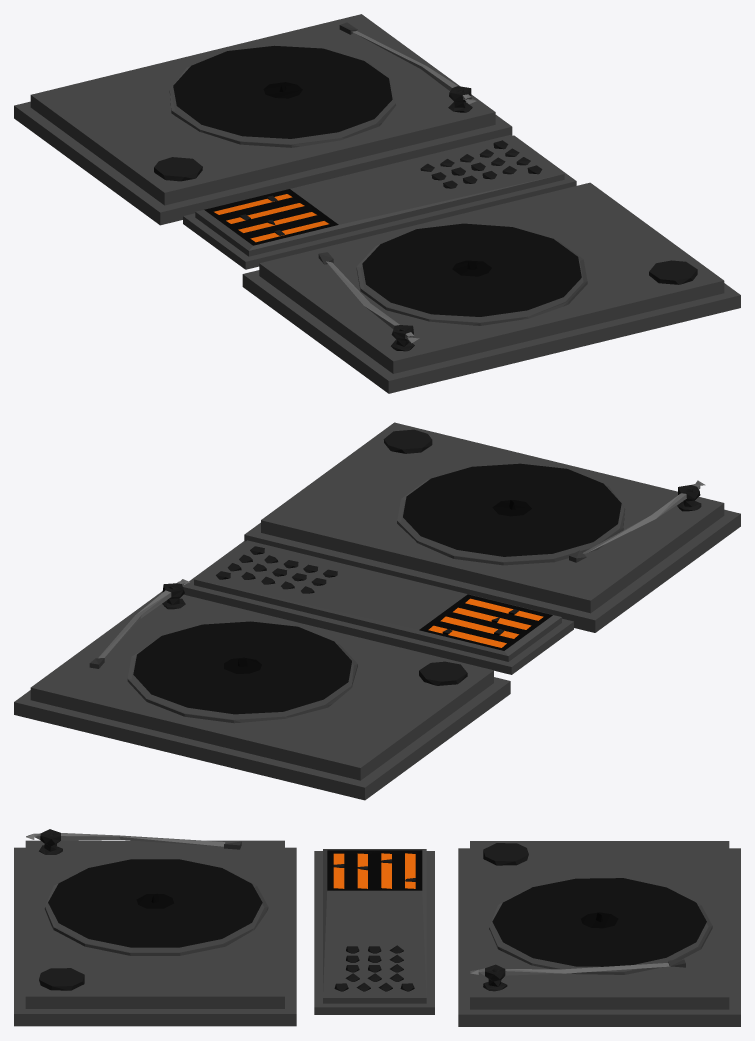
File: DjEquipment.fbx
3 views of the same model, one above another, from view 1: azimuth 30°, elevation 25°; view 2: azimuth 150°, elevation 25°; view 3: azimuth 270°, elevation 25° (orthographic). The views are drawn at different scales.
Parts seen in each view (by area): view 1: Dj_Equipment; view 2: Dj_Equipment; view 3: Dj_Equipment.
Part boxes in pixels (<box>): Dj_Equipment: <box>14,14,740,393</box>; Dj_Equipment: <box>14,422,740,800</box>; Dj_Equipment: <box>14,829,740,1026</box>.
Bounding box in the file's own units: 71.66 × 8.37 × 132.
Materials: 1 (1 with a texture image).
